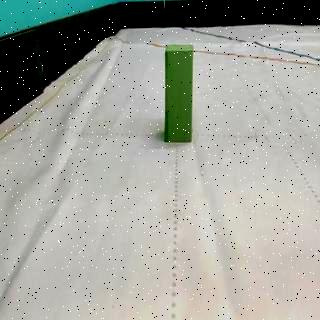greenbox: (164, 42, 193, 143)
